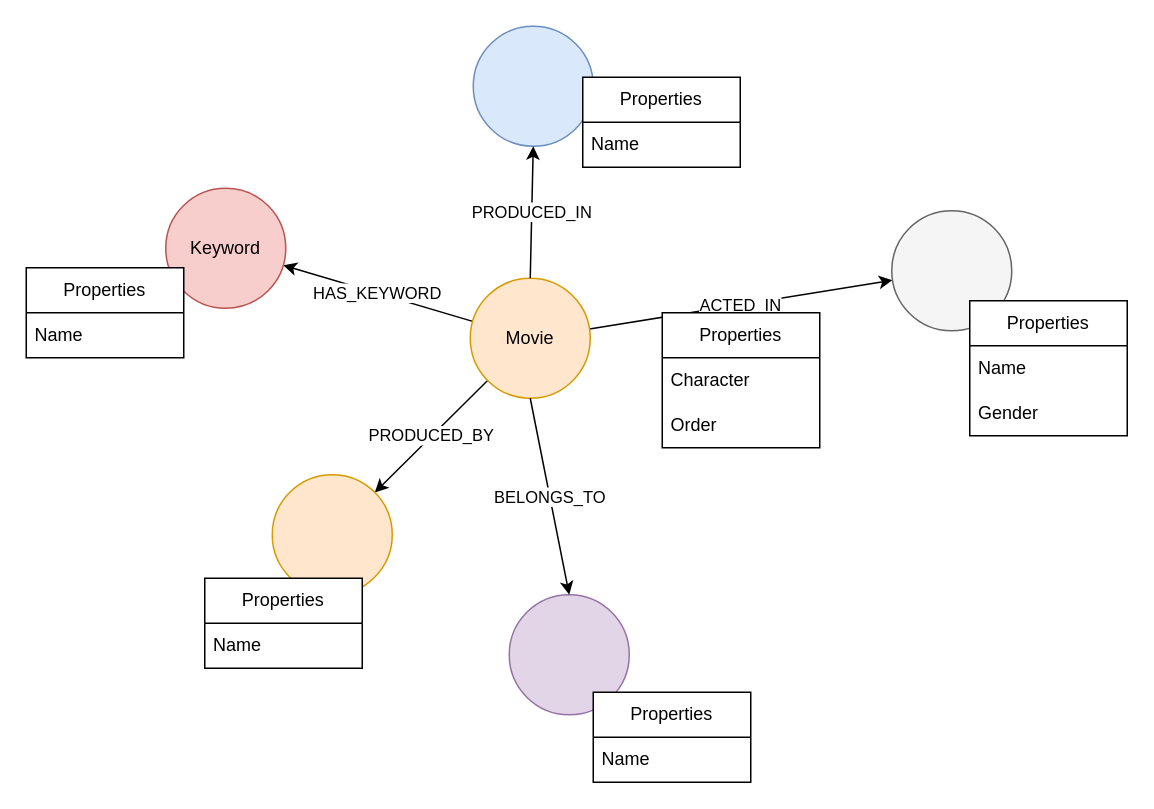
Some shapes in this 1154 by 809 pixel diagram are drawn without their labels. Each missing label, with the centre of its shape:
"Cast" belongs at point (951, 270).
"Genres" belongs at point (568, 654).
"Product Companies" belongs at point (331, 534).
"Product Country" belongs at point (532, 85).
